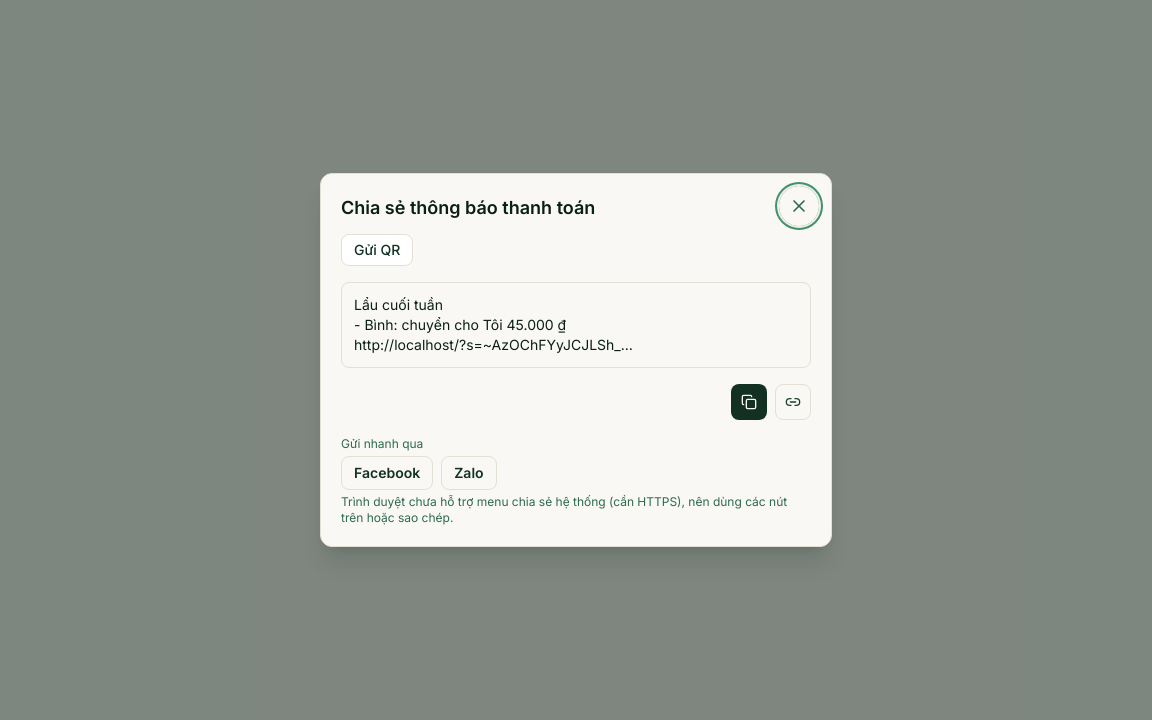
ShareMealDialog (Epic 8: BR-8.5, BR-8.6, R-4, R-5) › ô tích Gửi link / Gửi QR đổi nhãn và chuyển sang chế độ ảnh QR
Expected: the text named "Nội dung tin nhắn" is shown, [341,282,811,368]
Click the button "Gửi QR": (377, 250) [341,234,413,266]
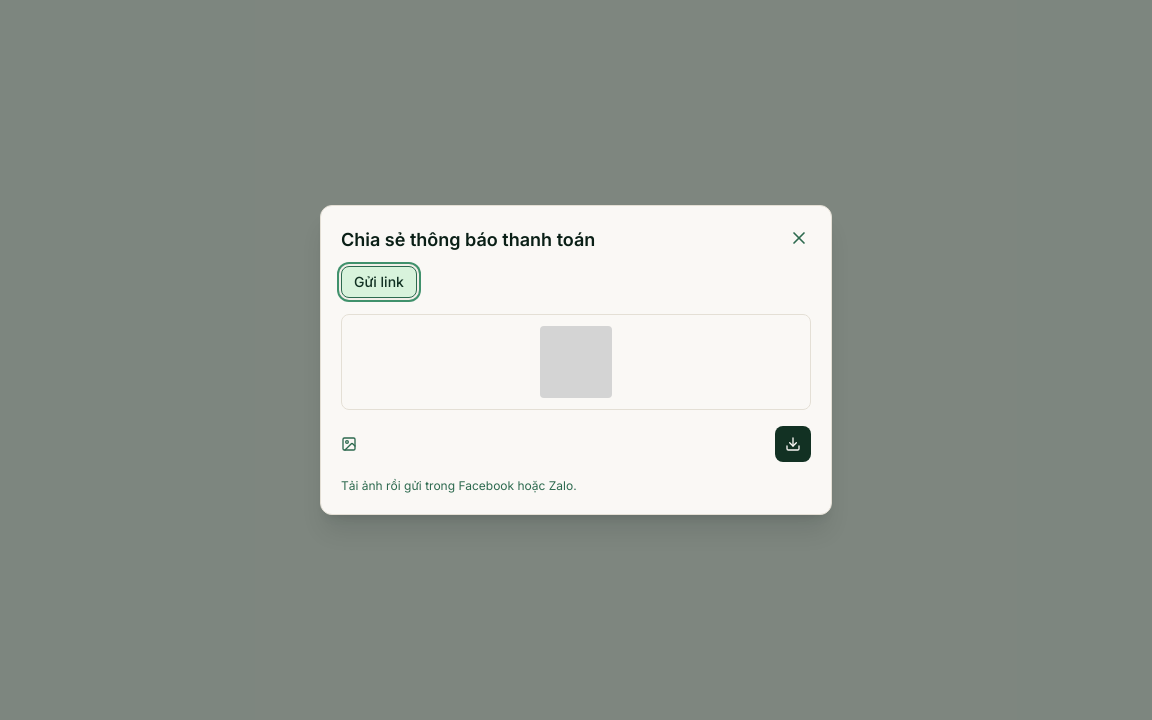
Expected: the button "Gửi link" is shown, [341,266,417,298]
